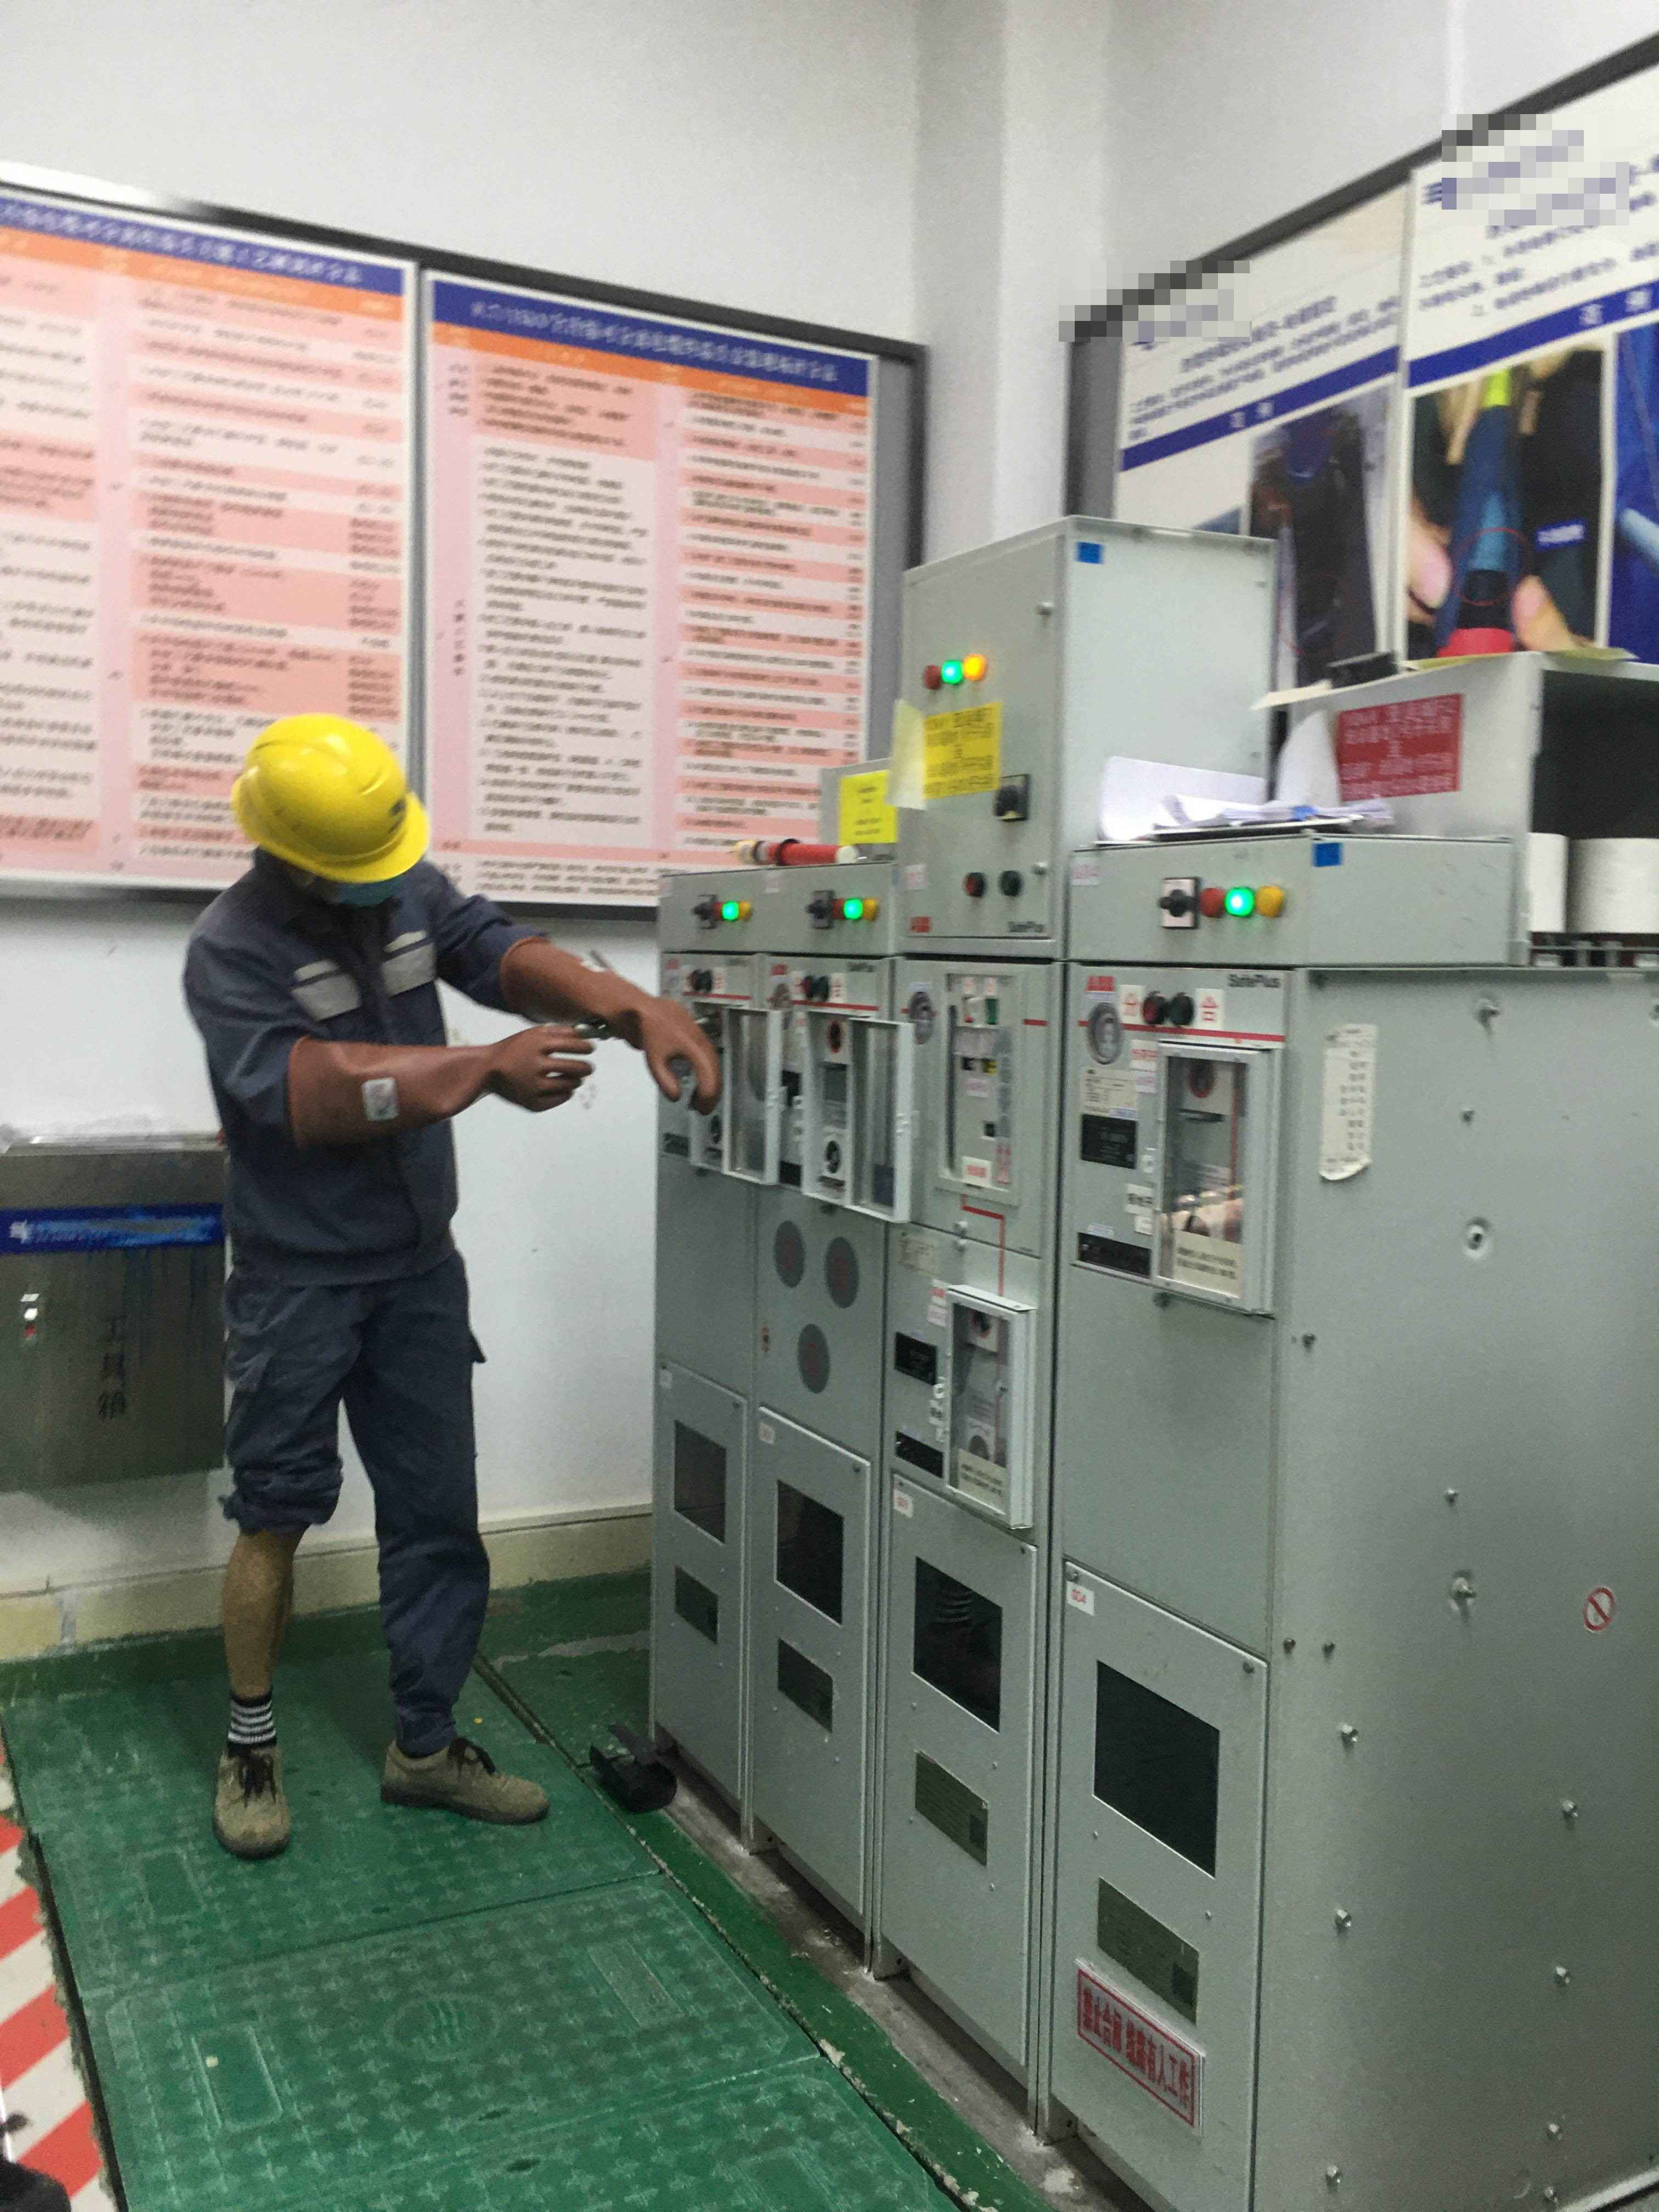downsuit: (221, 1296, 502, 1749)
upsuit: (174, 846, 530, 1270)
wrongbottom: (204, 1474, 338, 1742)
